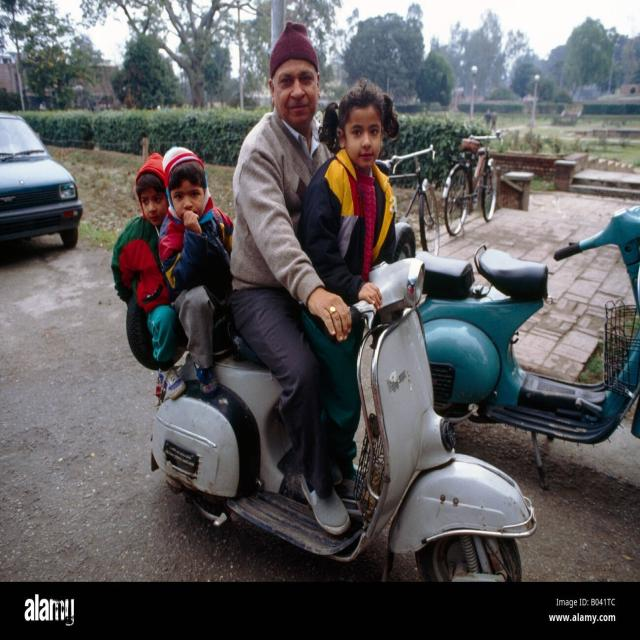bicycle: (442, 136, 496, 235)
motorcycle: (111, 23, 535, 580), (418, 206, 640, 486)
